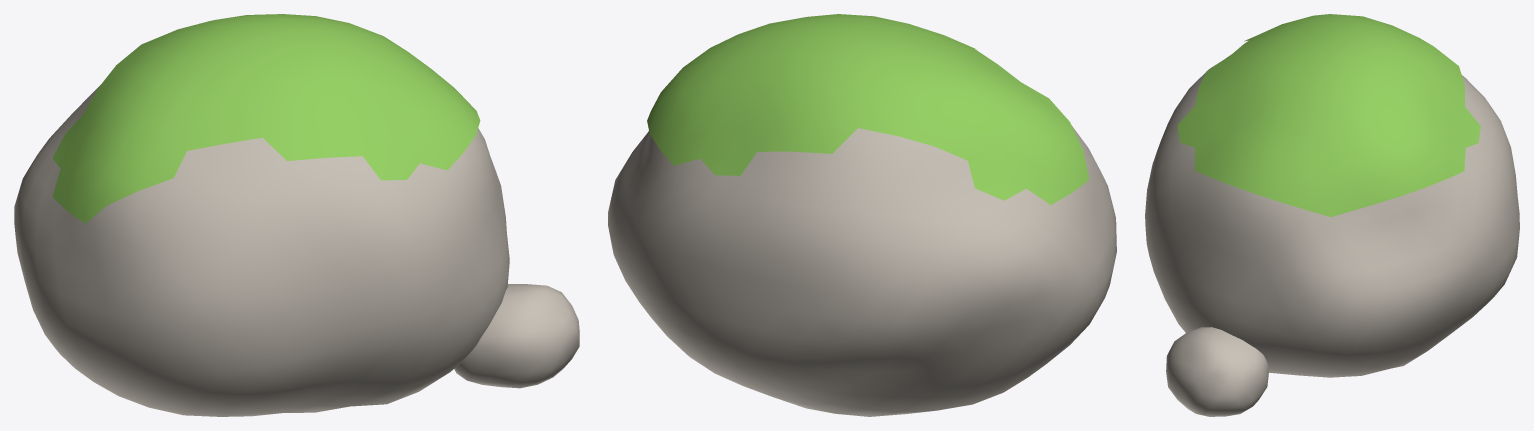
Rendered from prop_rock.glb.
3 views of the same model, side by side, from view 1: azimuth 30°, elevation 25°; view 2: azimuth 150°, elevation 25°; view 3: azimuth 270°, elevation 25° (orthographic). The views are drawn at different scales.
Parts seen in each view (by area): view 1: prop_rock; view 2: prop_rock; view 3: prop_rock.
Part boxes in pixels (bbox=[...]): prop_rock: bbox=[14, 14, 579, 416]; prop_rock: bbox=[608, 14, 1116, 416]; prop_rock: bbox=[1145, 14, 1519, 416].
Size of the model in its own units: 0.9167 by 0.6152 by 0.7354.
